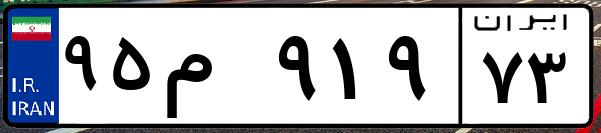1: (330, 28, 385, 110)
3: (525, 38, 570, 115)
5: (110, 28, 158, 98)
7: (475, 38, 525, 113)
9: (270, 28, 330, 110), (385, 28, 445, 110), (57, 26, 110, 100)
م: (158, 20, 270, 120)
